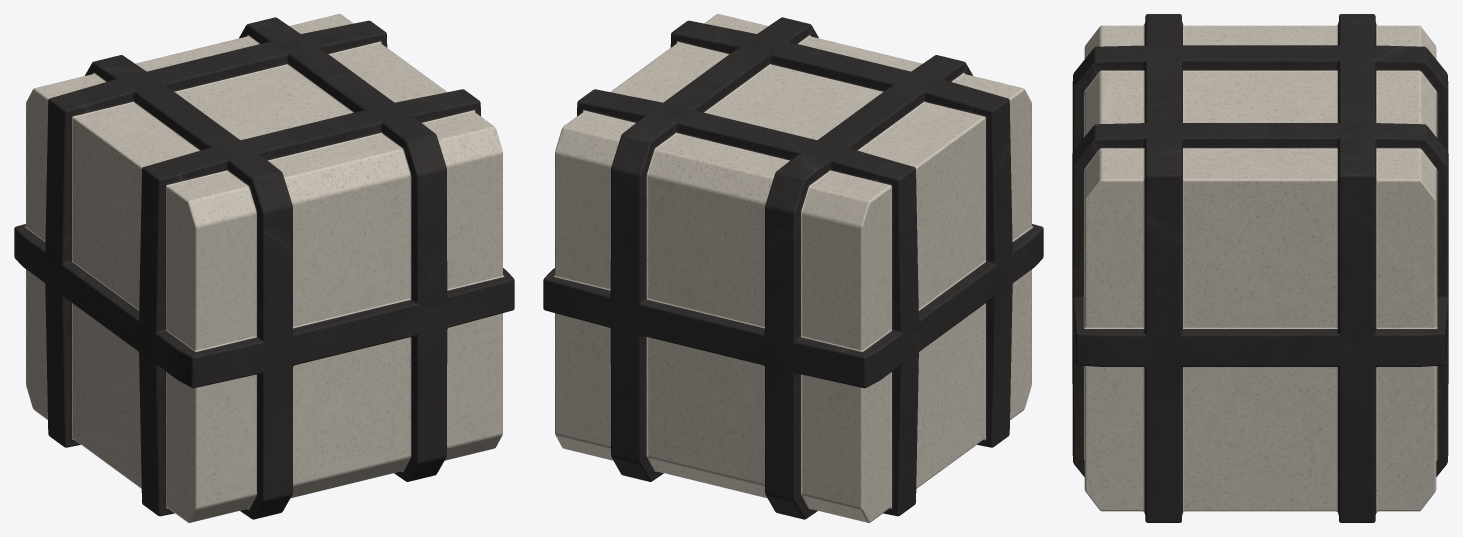
File: Crate 1 Small.fbx
The picture shows the model from 3 angles, left to right: view 1: azimuth 30°, elevation 25°; view 2: azimuth 150°, elevation 25°; view 3: azimuth 270°, elevation 25°; orthographic projection. The views are drawn at different scales.
Parts seen in each view (by area): view 1: Crate 1 Small; view 2: Crate 1 Small; view 3: Crate 1 Small.
Part boxes in pixels (x1=…): Crate 1 Small: x1=14, y1=14, x2=514, y2=522; Crate 1 Small: x1=543, y1=14, x2=1043, y2=522; Crate 1 Small: x1=1072, y1=14, x2=1448, y2=522.
Size of the model in its own units: 1.6 by 1.54 by 1.6.
